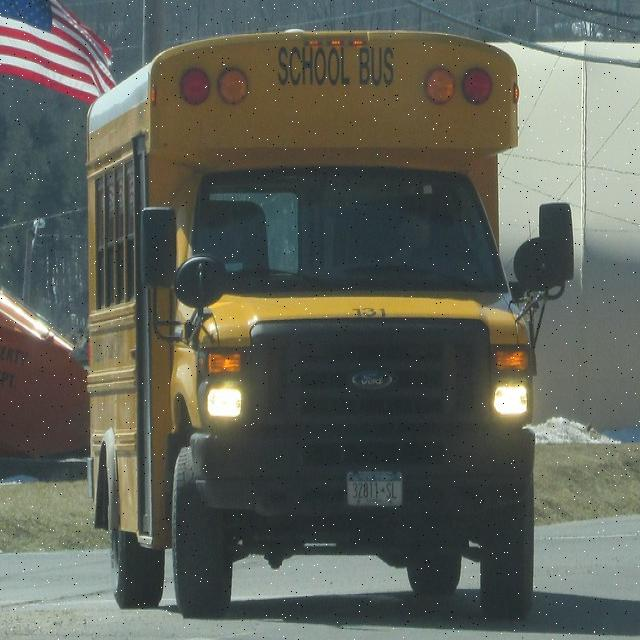Bus: (86, 29, 567, 611), (1, 290, 85, 454), (1, 0, 114, 101)
